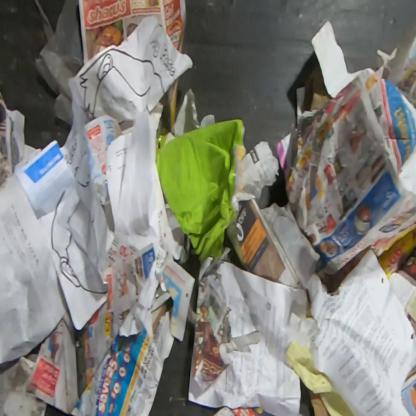cardboard: (158, 118, 248, 262), (155, 119, 178, 174), (308, 389, 330, 415)
soft_plastic: (33, 0, 85, 130)
